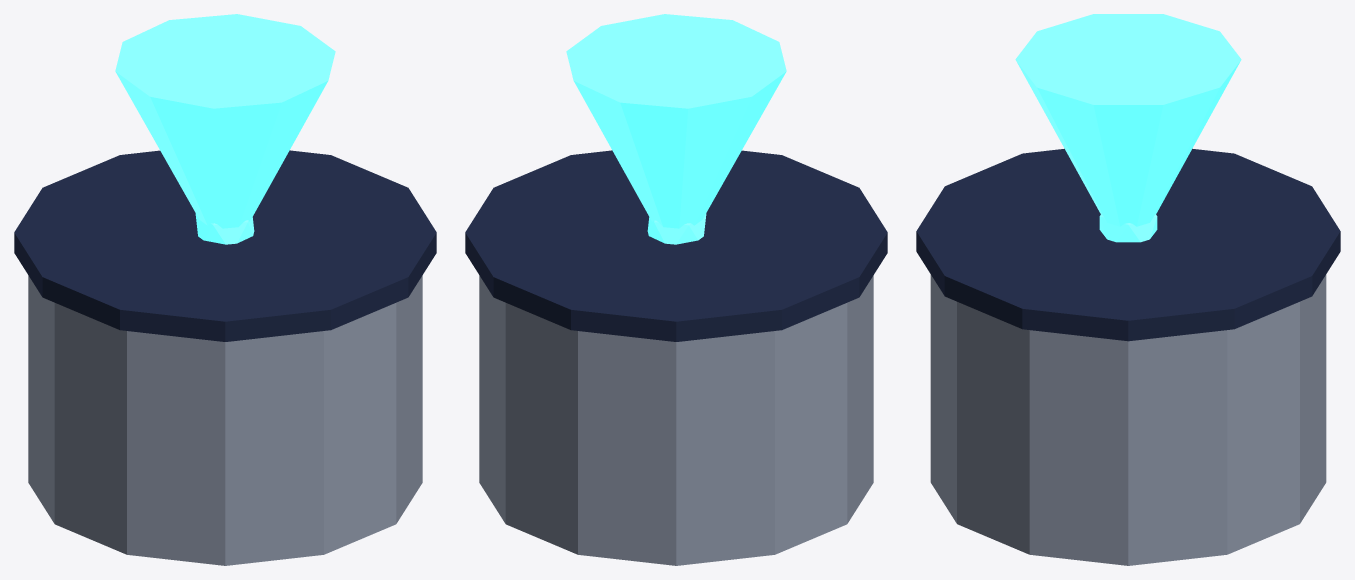
File: holo_table.fbx
3 views of the same model, side by side, from view 1: azimuth 30°, elevation 25°; view 2: azimuth 150°, elevation 25°; view 3: azimuth 270°, elevation 25° (orthographic).
Visible parts, largest first — view 1: holo_table; view 2: holo_table; view 3: holo_table.
Part boxes in pixels (x1,y1,x2,y2): holo_table: (14,14,436,565); holo_table: (465,14,887,565); holo_table: (916,14,1340,565).
Bounding box in the file's own units: 1.5 × 1.65 × 1.5.
